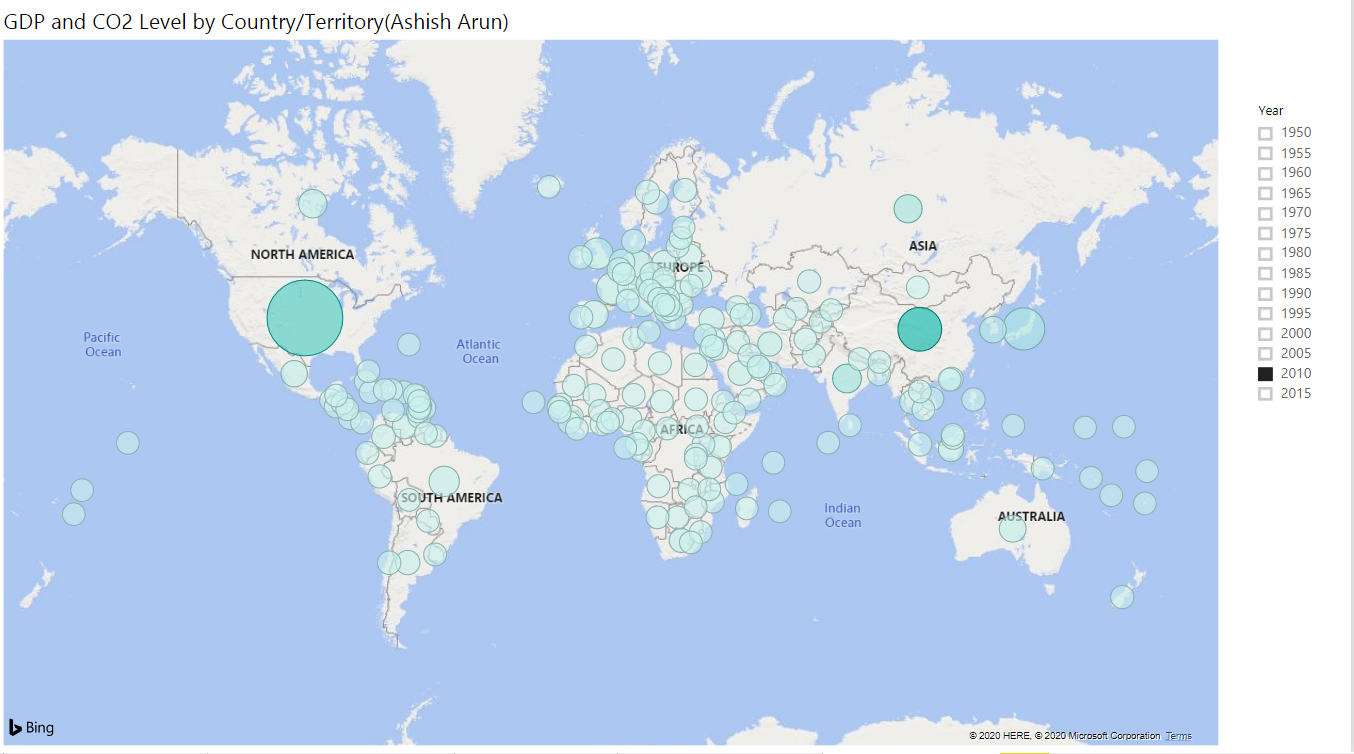

The dashboard page shown, as its layout file describes it:
{"tool":"powerbi","page":{"name":"GDP and CO2 Map","canvas":[1280,720],"ordinal":4},"visuals":[{"type":"map","fields":{"Size":["Sum(GDP Data.GDP)"],"Category":["Country.Country/Territory"],"Gradient":["Sum(CO2 Emissions in kt (1).CO2 Level)"]},"box":[10.6,19.9,1149.7,698.9],"z":1},{"type":"slicer","fields":{"Values":["Year.Year"]},"box":[1179.7,104.4,100.8,300.2],"z":2}]}

Visuals, with their boxes in screenshot pixels (x1, y1, x2, y2), scaled from the page's 1280x720 canvas onto the 1354x754 screenshot:
map - Sum(GDP Data.GDP) x Country.Country/Territory: left=11, top=21, right=1227, bottom=753
slicer - Year.Year: left=1248, top=109, right=1353, bottom=424
